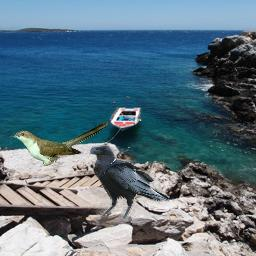Crow: (88, 145, 170, 219)
Cuckoo: (10, 121, 108, 166)
